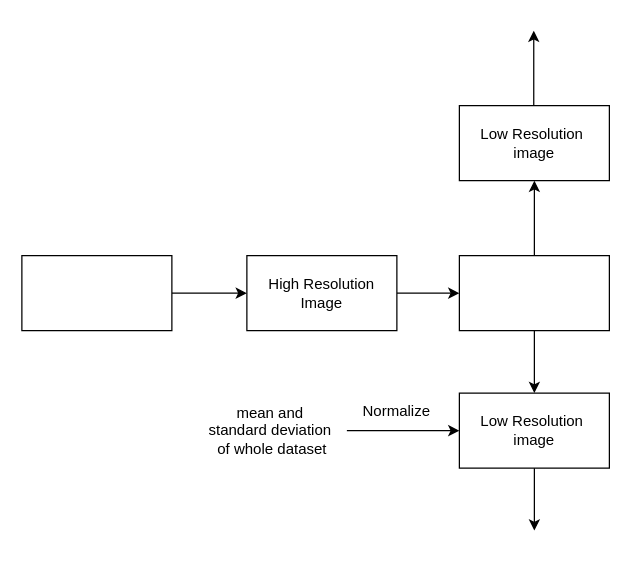
The diagram is 631 pixels wide and 563 high, and some of its shapes have lost their labels. The shapes that lost their labels are listed below. From the top down, each one's centre as x and y in pixels, then its label:
At point 96,292: "Original Image".
At point 533,292: "Downscale by scale factor".
